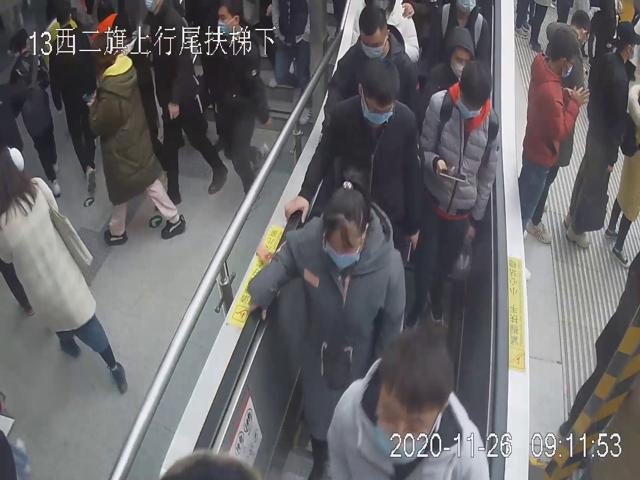person: (245, 163, 405, 480), (283, 55, 421, 271), (327, 321, 489, 480), (408, 59, 499, 327), (81, 24, 187, 244), (563, 17, 640, 253), (517, 28, 590, 241), (320, 2, 419, 126), (418, 27, 478, 119)
